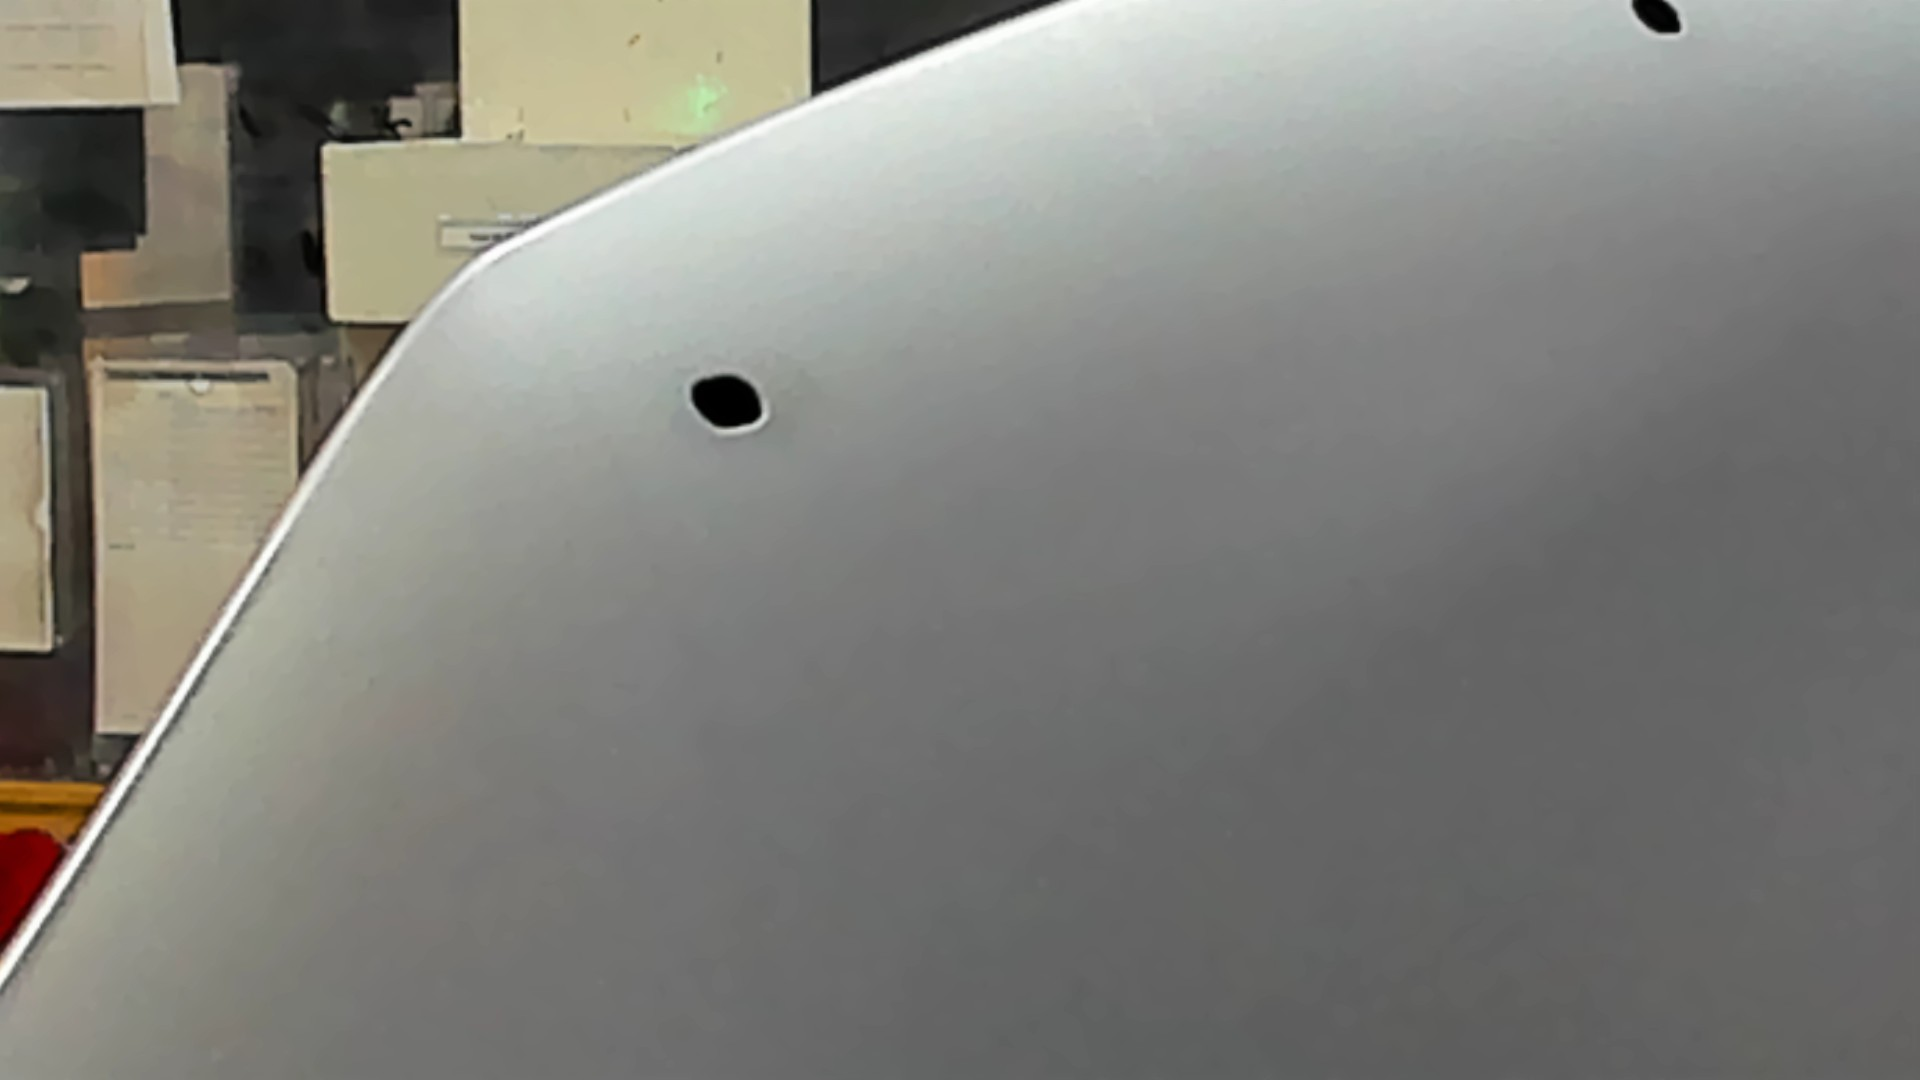chico: (682, 364, 782, 442), (1623, 1, 1689, 40)
